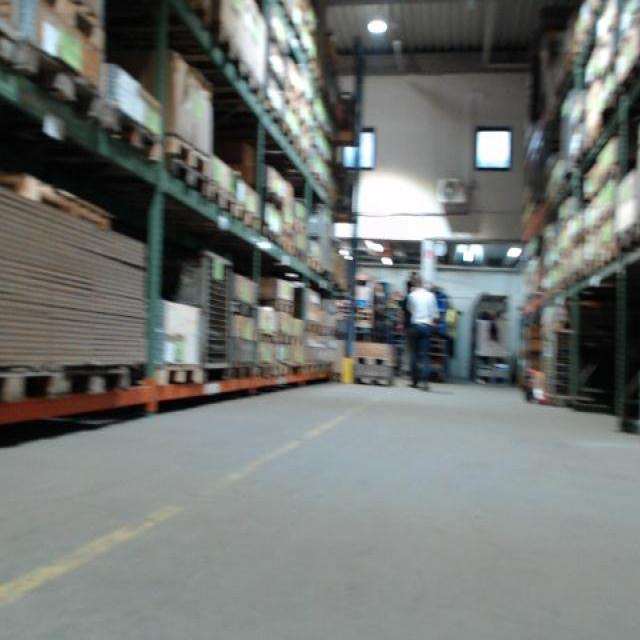pallet: (15, 33, 106, 126), (104, 103, 164, 164), (61, 363, 134, 399), (0, 367, 61, 407), (166, 132, 211, 178), (163, 156, 210, 200), (156, 359, 202, 387), (208, 184, 236, 216), (233, 205, 262, 235), (352, 354, 394, 368), (354, 375, 393, 387), (228, 363, 254, 380)
pallet_truck: (524, 241, 561, 407)
stillage: (178, 233, 241, 389), (542, 319, 586, 411)
